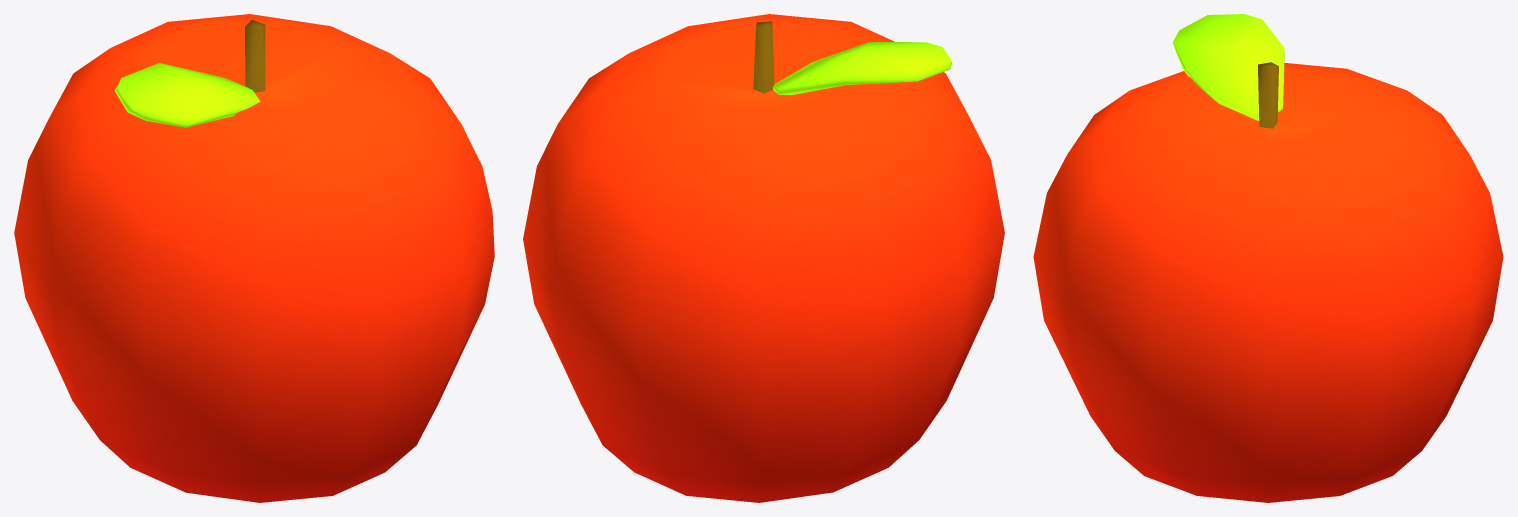
File: red_apple.glb
The picture shows the model from 3 angles, left to right: view 1: azimuth 30°, elevation 25°; view 2: azimuth 150°, elevation 25°; view 3: azimuth 270°, elevation 25°; orthographic projection. The views are drawn at different scales.
Visible parts, largest first — view 1: Red_Apple; view 2: Red_Apple; view 3: Red_Apple.
Part boxes in pixels (x1=…): Red_Apple: x1=14, y1=14, x2=494, y2=502; Red_Apple: x1=523, y1=14, x2=1004, y2=502; Red_Apple: x1=1033, y1=14, x2=1503, y2=502.
Bounding box in the file's own units: 0.4685 × 0.4838 × 0.5038.
1 material, 1 textured.
